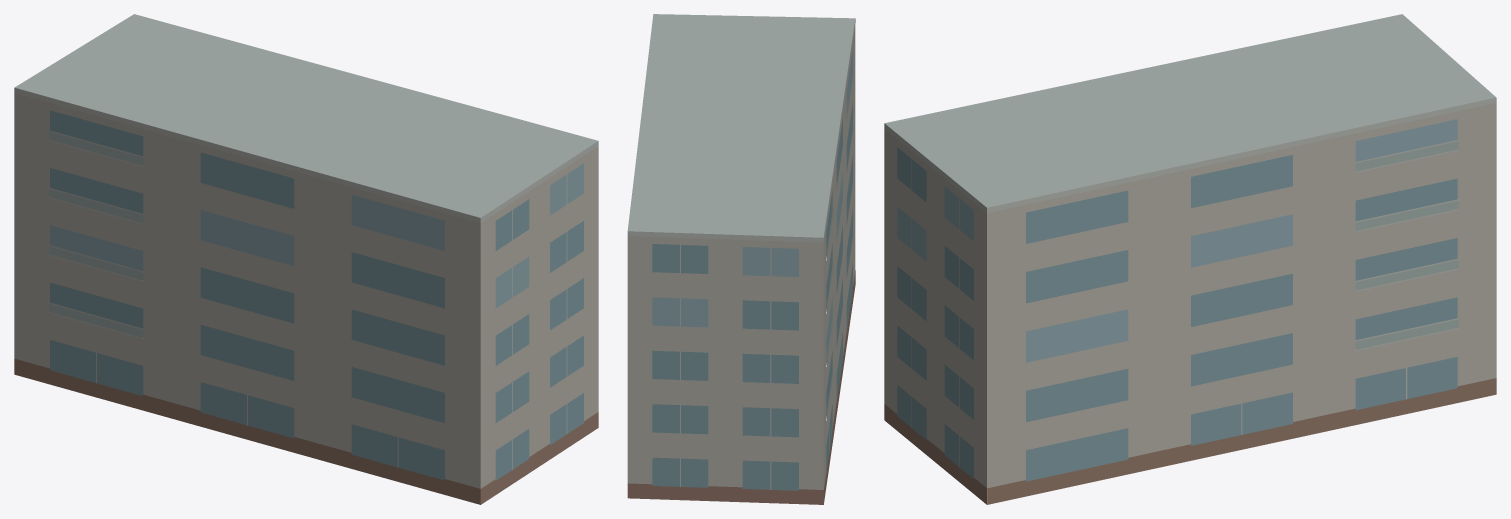
File: survey-upis-32513847.glb
3 renders of one model, left to right at view 1: azimuth 30°, elevation 25°; view 2: azimuth 150°, elevation 25°; view 3: azimuth 270°, elevation 25°, orthographic. The views are drawn at different scales.
Parts seen in each view (by area): view 1: survey-upis-32513847.tmp; view 2: survey-upis-32513847.tmp; view 3: survey-upis-32513847.tmp.
Part boxes in pixels (x1,y1,x2,y2): survey-upis-32513847.tmp: (14,14,598,504); survey-upis-32513847.tmp: (627,14,855,504); survey-upis-32513847.tmp: (884,14,1496,504).
Size of the model in its own units: 18.79 by 13.42 by 25.07.
